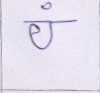anusvara: (43, 3, 52, 9)
